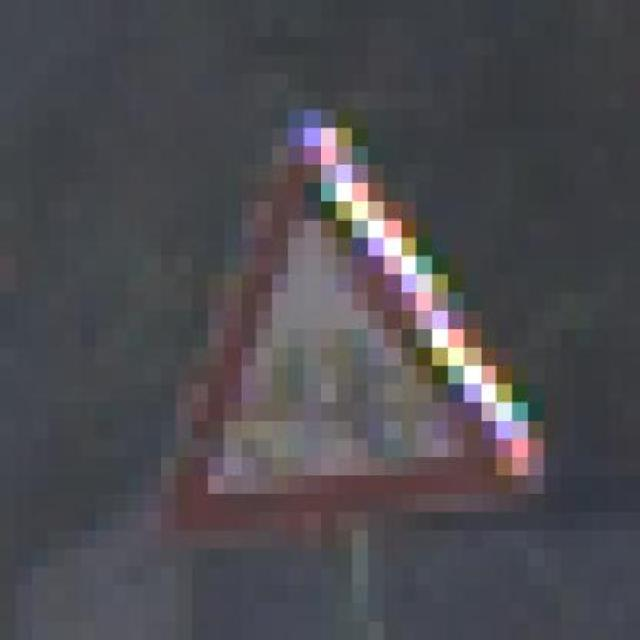CYCLE ROUTE AHEAD WARNING: (112, 128, 576, 549)
